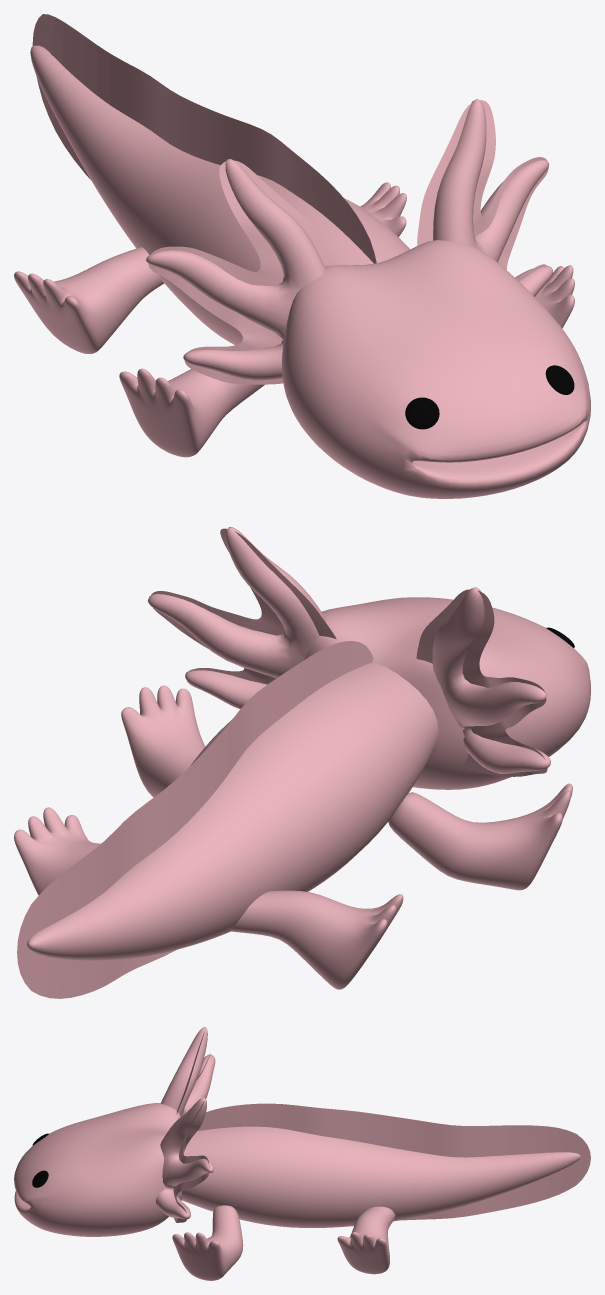
Rendered from Axolot1.glb.
3 renders of one model, top to bottom at view 1: azimuth 30°, elevation 25°; view 2: azimuth 150°, elevation 25°; view 3: azimuth 270°, elevation 25°, orthographic. The views are drawn at different scales.
Parts seen in each view (by area): view 1: Cube.001, Cube.007, Cube.004, Cube.002, Plane, Cube.006, Cube.003, Sphere.001; view 2: Cube.007, Cube.002, Cube.004, Cube.001, Cube.003, Cube.006, Plane; view 3: Cube.007, Cube.001, Cube.002, Cube.004, Cube.003, Cube.006, Plane.
Part boxes in pixels (x1,y1,x2,y2): Cube.001: (281, 240, 590, 498); Cube.007: (30, 45, 409, 344); Cube.004: (146, 99, 552, 380); Cube.002: (32, 14, 376, 263); Plane: (148, 100, 548, 384); Cube.006: (14, 182, 406, 353); Cube.003: (119, 265, 574, 457); Sphere.001: (405, 365, 574, 429); Cube.007: (27, 662, 438, 960); Cube.002: (17, 641, 373, 998); Cube.004: (147, 527, 550, 773); Cube.001: (304, 597, 590, 789); Cube.003: (121, 685, 572, 890); Cube.006: (14, 807, 403, 989); Plane: (151, 528, 547, 776); Cube.007: (181, 1126, 580, 1227); Cube.001: (14, 1103, 183, 1236); Cube.002: (198, 1103, 590, 1220); Cube.004: (155, 1027, 215, 1219); Cube.003: (172, 1205, 243, 1280); Cube.006: (337, 1206, 395, 1274); Plane: (173, 1032, 210, 1222).
Bounding box in the file's own units: 6.3 × 4 × 12.11.
